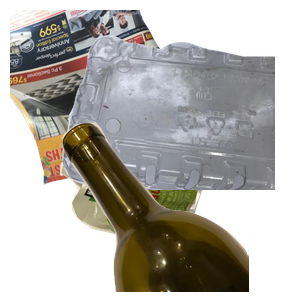glass: (60, 120, 300, 300)
paper: (10, 10, 230, 188)
plastic: (60, 32, 300, 212)
trash: (57, 137, 257, 300)
